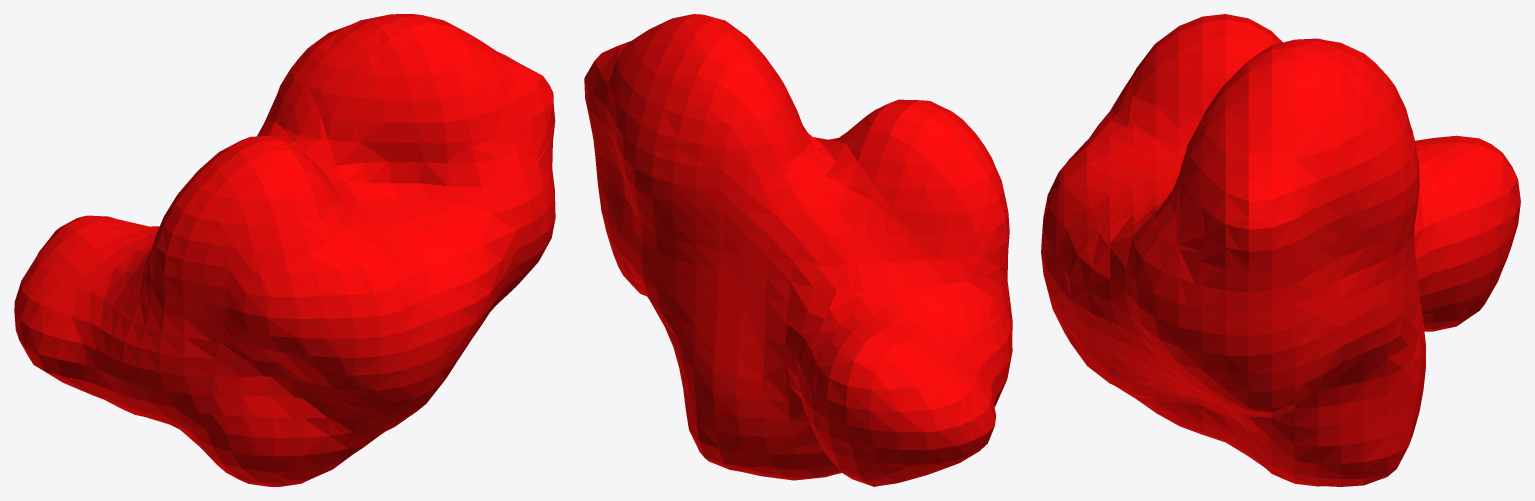
The model's file is yheU_coarse.dae.
3 views of the same model, side by side, from view 1: azimuth 30°, elevation 25°; view 2: azimuth 150°, elevation 25°; view 3: azimuth 270°, elevation 25° (orthographic). The views are drawn at different scales.
Parts seen in each view (by area): view 1: yheU; view 2: yheU; view 3: yheU.
Boxes of the visible parts, x1,y1,x2,y2 form: yheU: (14,14,555,486); yheU: (584,14,1012,486); yheU: (1041,14,1520,486).
Bounding box in the file's own units: 41.37 × 35.67 × 32.23.
